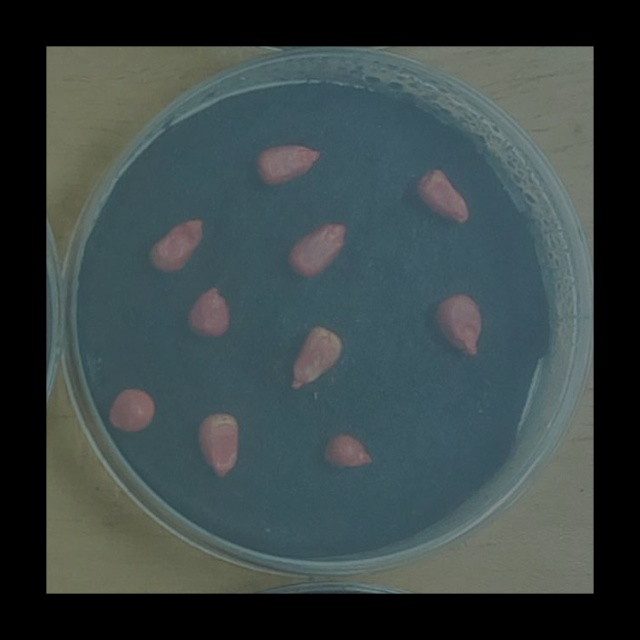Zea mays: (284, 321, 345, 398), (282, 218, 351, 284), (141, 213, 207, 280), (410, 163, 473, 230), (429, 290, 486, 363), (190, 408, 244, 485), (250, 138, 325, 190), (179, 282, 235, 345), (315, 427, 378, 476), (102, 384, 160, 437)
